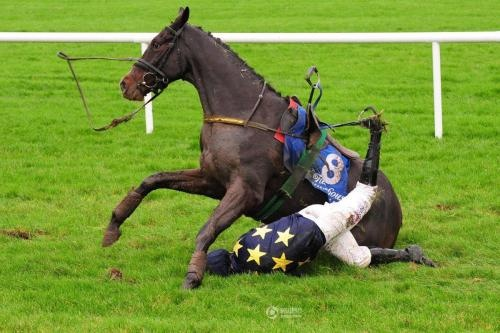falling: (200, 160, 414, 287)
